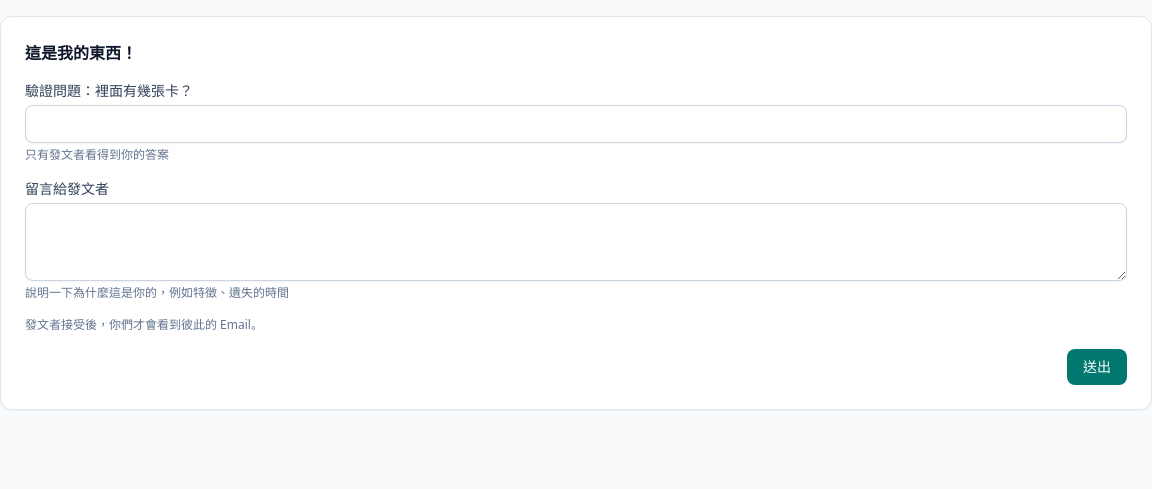
Test: ClaimSection › requires an answer to the verification question before sending
Later steps or results of the test are not shown.
Type "這是我上週掉的" into the text box labelled "留言給發文者" at [576, 242], box [25, 203, 1127, 281]
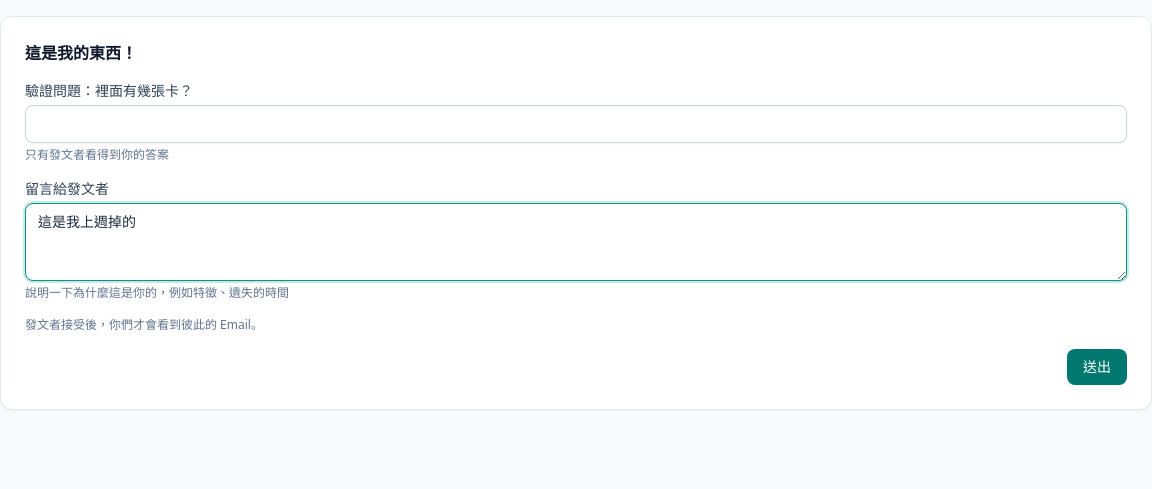
Click the button "送出" at [1097, 367], box [1067, 349, 1127, 385]
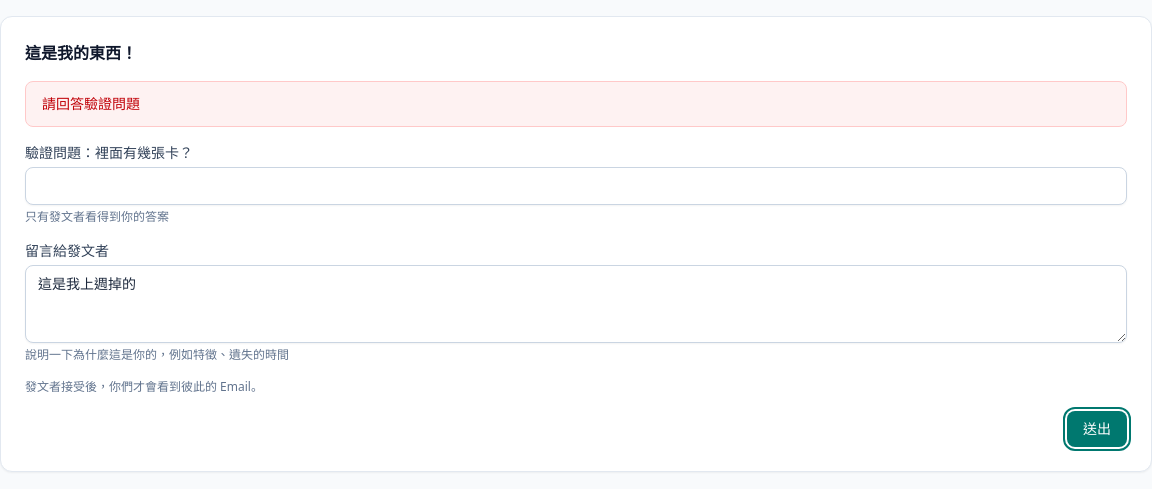
expect the message reads "請回答驗證問題": met, box [42, 94, 140, 113]
